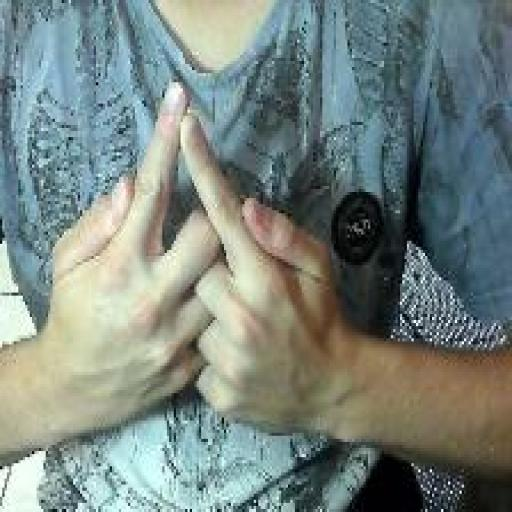Uma -horse-: (43, 75, 336, 440)
